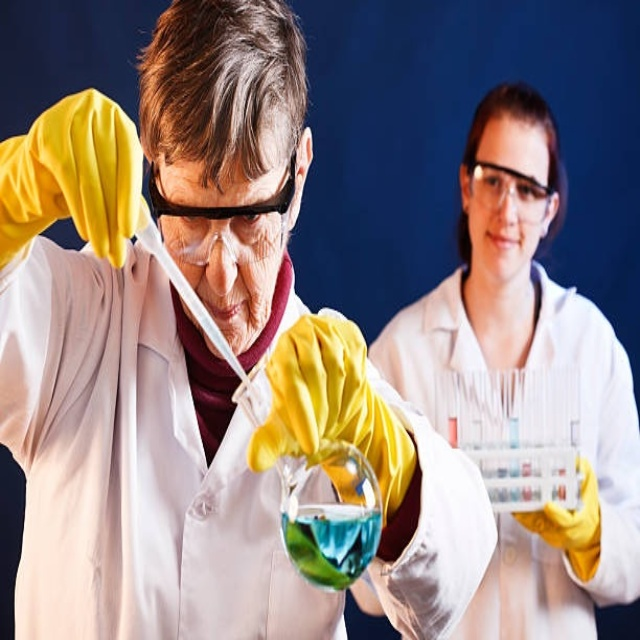Gafas: (156, 146, 298, 262), (470, 152, 553, 226)
Guantes: (246, 313, 420, 538), (0, 88, 151, 290), (511, 457, 602, 580)
Sin_mascara: (201, 285, 244, 344), (483, 226, 522, 271)
